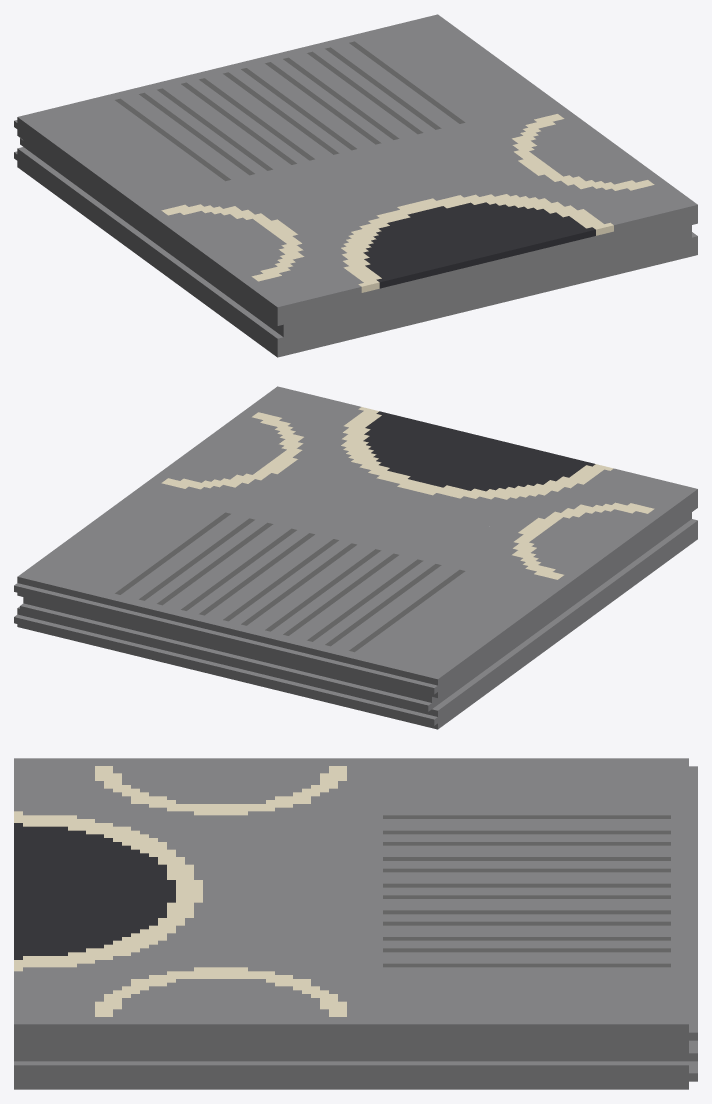
The model's file is long_undertop_sleeveless.glb.
The picture shows the model from 3 angles, top to bottom: view 1: azimuth 30°, elevation 25°; view 2: azimuth 150°, elevation 25°; view 3: azimuth 270°, elevation 25°; orthographic projection. The views are drawn at different scales.
Parts seen in each view (by area): view 1: long_undertop_sleeveless:compound; view 2: long_undertop_sleeveless:compound; view 3: long_undertop_sleeveless:compound.
Boxes of the visible parts, <box> form: long_undertop_sleeveless:compound: <box>14,14,697,357</box>; long_undertop_sleeveless:compound: <box>14,386,697,729</box>; long_undertop_sleeveless:compound: <box>14,758,697,1089</box>.
Size of the model in its own units: 0.28 by 0.032 by 0.304.
